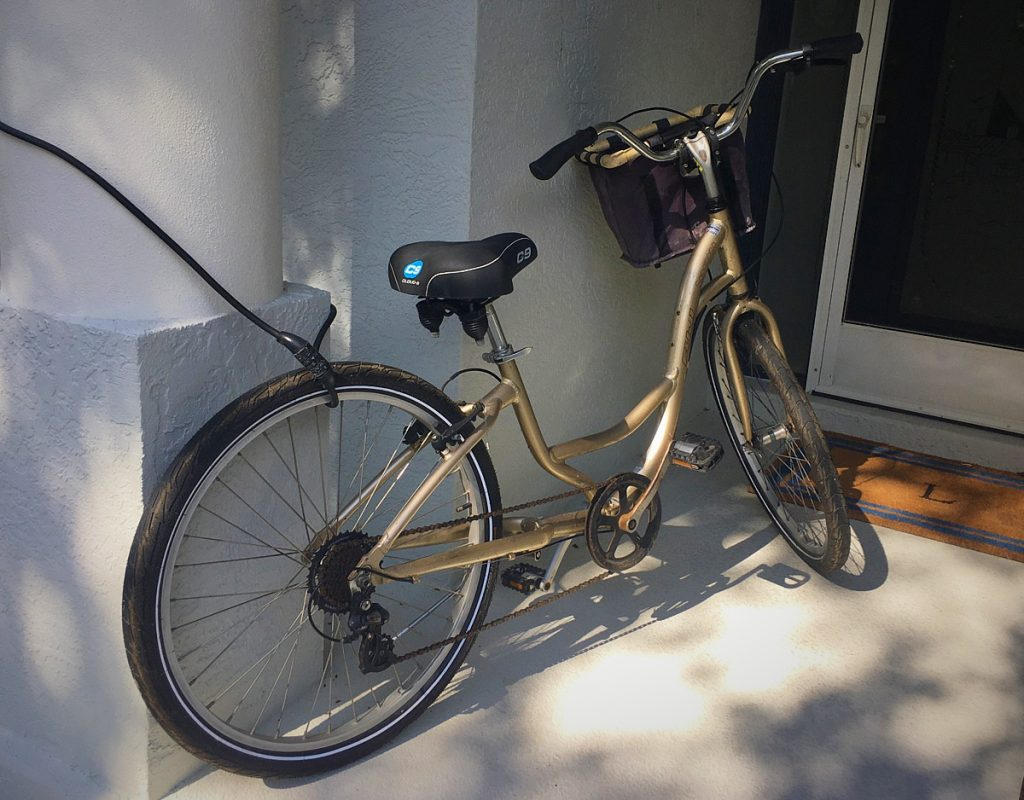bike: (90, 11, 942, 782)
